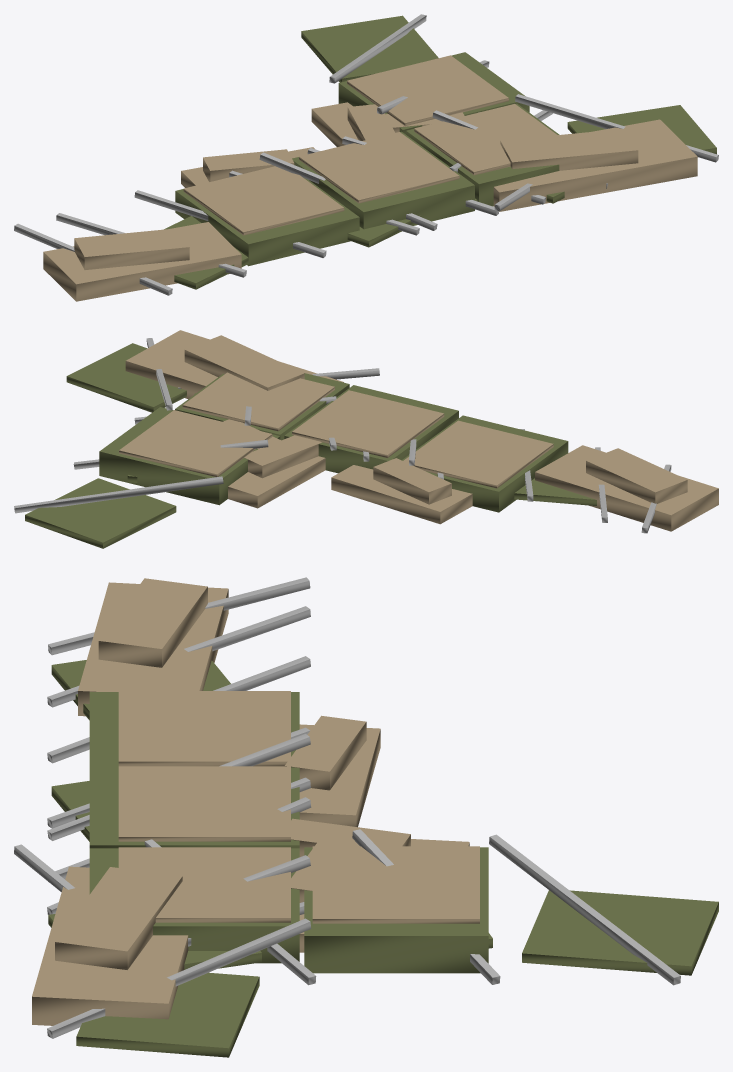
Rendered from SM_HescoRemateEspejo_v0_MallaLimpia_e3_Brecha_LOD0.fbx.
The picture shows the model from 3 angles, top to bottom: view 1: azimuth 30°, elevation 25°; view 2: azimuth 150°, elevation 25°; view 3: azimuth 270°, elevation 25°; orthographic projection. The views are drawn at different scales.
Parts seen in each view (by area): view 1: SM_hesco_piezas_v23_LOD0; view 2: SM_hesco_piezas_v23_LOD0; view 3: SM_hesco_piezas_v23_LOD0.
Part boxes in pixels (x1,y1,x2,y2): SM_hesco_piezas_v23_LOD0: [14, 14, 718, 301]; SM_hesco_piezas_v23_LOD0: [14, 330, 718, 548]; SM_hesco_piezas_v23_LOD0: [14, 577, 718, 1057].
Bounding box in the file's own units: 6.23 × 0.3263 × 4.09.
